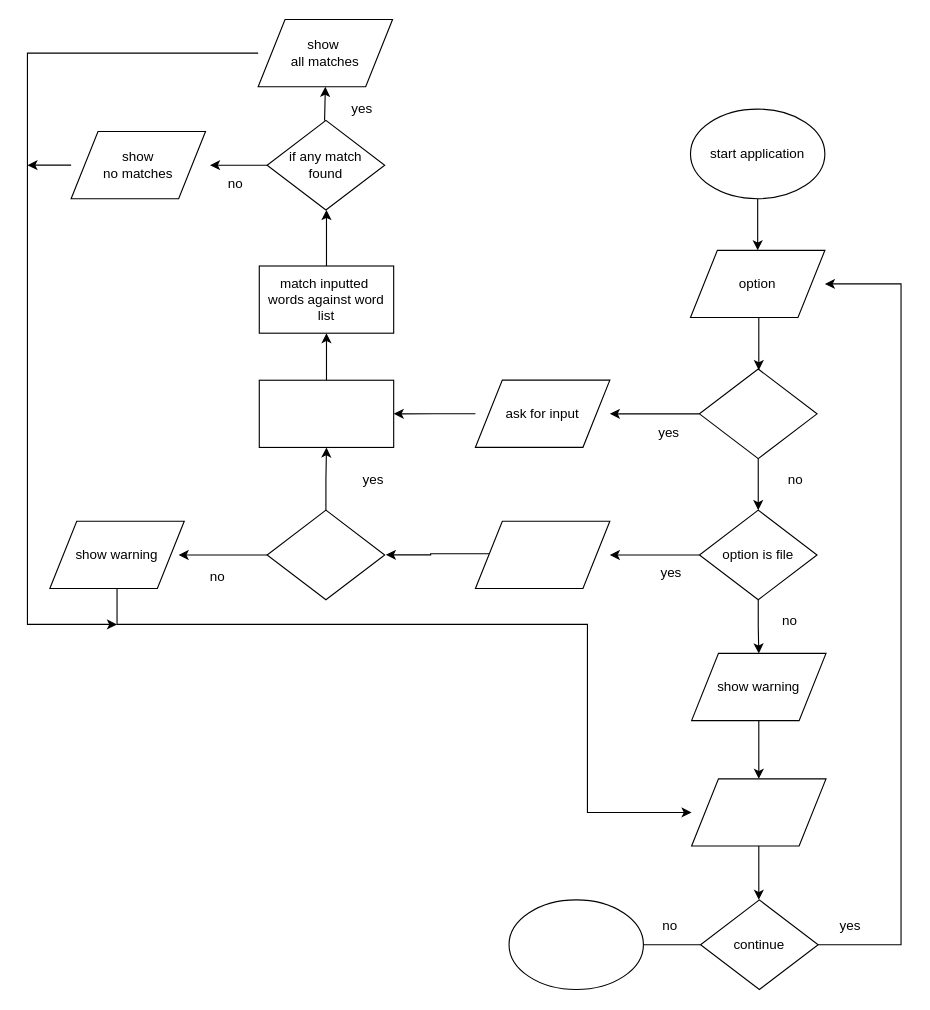
Image size: 930x1010. Some labels were removed from this diagram. Each missing label, with the box of its shape:
ask for file path: (474, 520, 610, 588)
ask if user wants continue: (690, 778, 826, 846)
exit application: (508, 899, 643, 990)
file recognized: (266, 509, 385, 600)
load word list: (258, 379, 394, 447)
option is manual: (698, 368, 817, 459)
